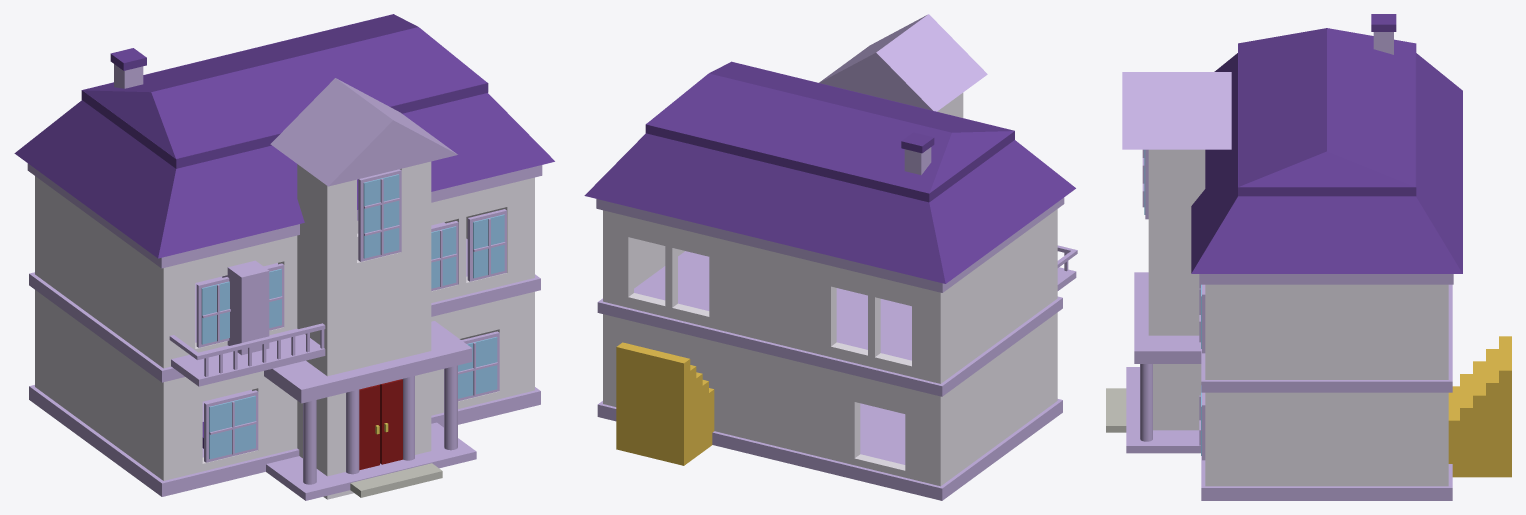
The model's file is suneo.glb.
3 views of the same model, side by side, from view 1: azimuth 30°, elevation 25°; view 2: azimuth 150°, elevation 25°; view 3: azimuth 270°, elevation 25° (orthographic). The views are drawn at different scales.
Visible parts, largest first — view 1: suneo_body, suneo_mansard, suneo_roof_cap, suneo_tower, suneo_gable, suneo_trim_b, suneo_porch_roof, suneo_trim_m, suneo_trim_t, suneo_porch_floor, suneo_roof_top, suneo_bald (+21 smaller); view 2: suneo_body, suneo_mansard, suneo_roof_cap, suneo_trim_m, suneo_gable, suneo_stairs_7, suneo_trim_b, suneo_trim_t, suneo_roof_top, suneo_stairs_6, suneo_chimney, suneo_stairs_5; view 3: suneo_body, suneo_mansard, suneo_roof_cap, suneo_tower, suneo_gable, suneo_trim_b, suneo_trim_m, suneo_porch_roof, suneo_trim_t, suneo_porch_floor, suneo_roof_top, suneo_stairs_7 (+7 smaller).
Part boxes in pixels (x1,y1,x2,y2): suneo_body: [35, 176, 534, 480]; suneo_mansard: [14, 93, 554, 258]; suneo_roof_cap: [83, 14, 487, 158]; suneo_tower: [297, 161, 431, 499]; suneo_gable: [270, 78, 457, 186]; suneo_trim_b: [29, 385, 540, 496]; suneo_porch_roof: [264, 321, 472, 403]; suneo_trim_m: [29, 222, 540, 382]; suneo_trim_t: [27, 163, 542, 268]; suneo_porch_floor: [266, 422, 476, 500]; suneo_roof_top: [81, 14, 488, 168]; suneo_bald: [222, 260, 269, 355]; suneo_body: [603, 209, 1057, 486]; suneo_mansard: [584, 133, 1075, 283]; suneo_roof_cap: [646, 62, 1014, 193]; suneo_trim_m: [597, 251, 1062, 396]; suneo_gable: [819, 14, 987, 111]; suneo_stairs_7: [616, 342, 690, 465]; suneo_trim_b: [597, 399, 1062, 500]; suneo_trim_t: [596, 197, 1064, 292]; suneo_roof_top: [645, 61, 1014, 202]; suneo_stairs_6: [690, 365, 696, 460]; suneo_chimney: [904, 147, 931, 175]; suneo_stairs_5: [696, 372, 702, 456]; suneo_body: [1205, 284, 1448, 486]; suneo_mansard: [1191, 53, 1462, 273]; suneo_roof_cap: [1238, 28, 1415, 186]; suneo_tower: [1148, 149, 1205, 430]; suneo_gable: [1122, 72, 1231, 149]; suneo_trim_b: [1201, 456, 1452, 500]; suneo_trim_m: [1201, 284, 1452, 392]; suneo_porch_roof: [1134, 272, 1201, 363]; suneo_trim_t: [1200, 274, 1453, 284]; suneo_porch_floor: [1126, 367, 1200, 453]; suneo_roof_top: [1238, 43, 1416, 196]; suneo_stairs_7: [1499, 336, 1511, 477].
Bounding box in the file's own units: 10.7 × 9.7 × 10.01.
